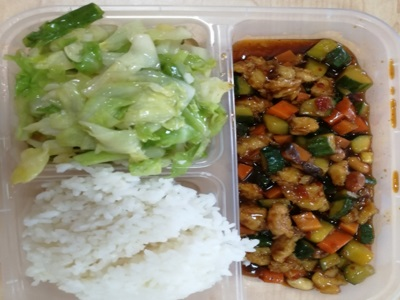cct: (21, 28, 212, 159)
gbjd: (242, 40, 369, 281)
rice: (30, 188, 215, 297)
